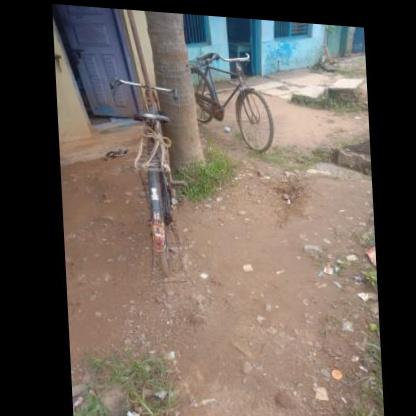Bicycle: (101, 65, 193, 291), (172, 29, 288, 161)
